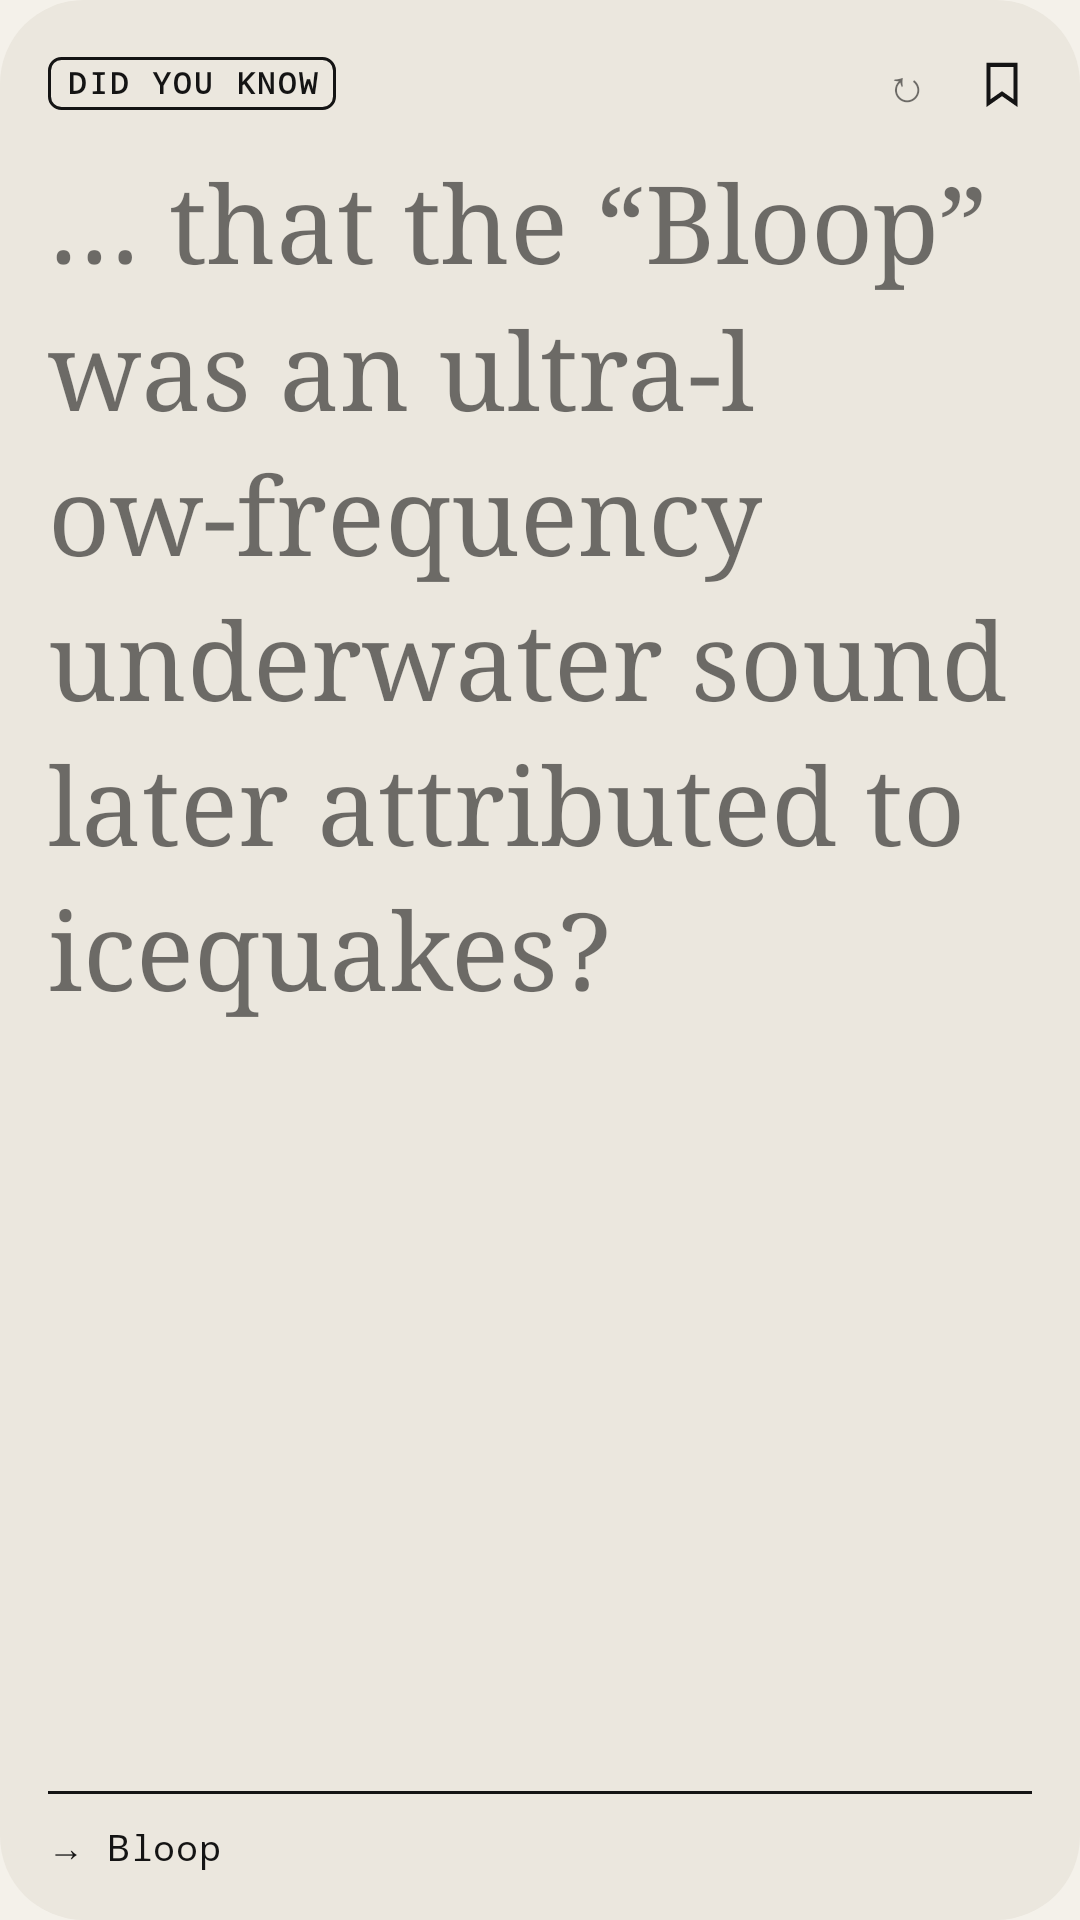

Where to tap for icons on this 1080*1920 app screen, as (x,y):
Save or unsave: (1002,84)
